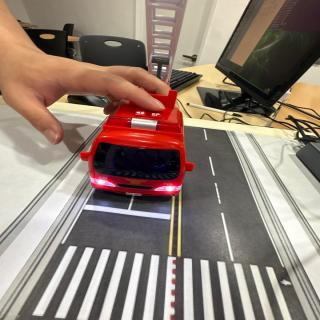Fire_truck: (80, 90, 194, 196)
